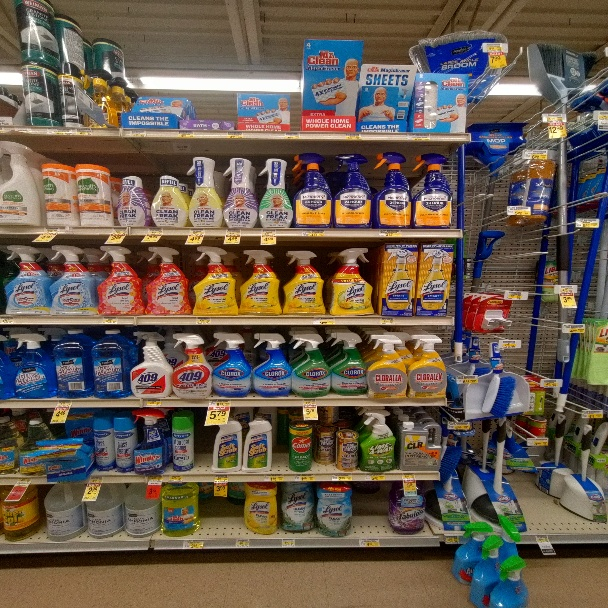All PRICE TAGS: (522, 150, 547, 159), (576, 218, 598, 228), (447, 421, 469, 430), (507, 206, 529, 215), (563, 324, 584, 333), (47, 127, 70, 135), (183, 540, 203, 549), (457, 375, 477, 384), (407, 133, 430, 140), (208, 399, 230, 406), (527, 438, 548, 445), (582, 411, 603, 418), (425, 193, 446, 200), (547, 113, 563, 122), (359, 539, 379, 546), (43, 226, 60, 234), (296, 474, 314, 481), (332, 474, 350, 481), (280, 539, 295, 547), (304, 230, 324, 236), (314, 318, 334, 324), (285, 132, 302, 139), (344, 133, 361, 140), (260, 229, 277, 236), (380, 230, 399, 236), (367, 474, 383, 481), (102, 316, 118, 323), (189, 228, 205, 235), (560, 285, 572, 294), (129, 130, 147, 136), (503, 340, 516, 348), (266, 475, 283, 481), (510, 291, 521, 300), (228, 131, 242, 138), (214, 474, 228, 481), (235, 540, 249, 547), (196, 317, 210, 324), (57, 400, 71, 407), (226, 229, 240, 236), (380, 317, 394, 324), (75, 129, 91, 135), (178, 131, 194, 137), (147, 229, 163, 235), (402, 474, 415, 481), (89, 476, 102, 483), (148, 475, 161, 482), (445, 536, 458, 543), (536, 535, 549, 542), (111, 228, 126, 234), (16, 478, 31, 484), (147, 400, 161, 406), (544, 380, 556, 387), (303, 399, 316, 405), (170, 475, 181, 482), (2, 317, 14, 323), (599, 112, 607, 120)
